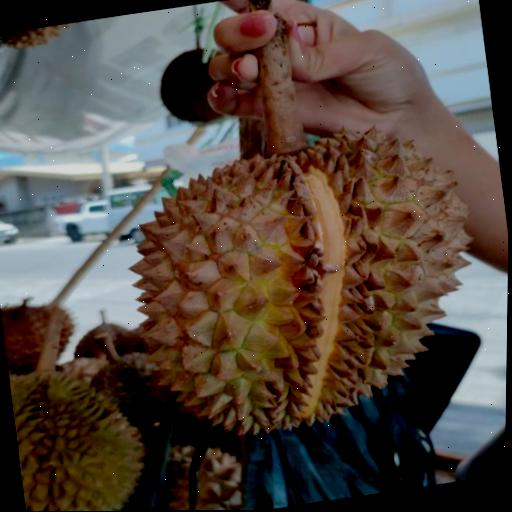rot: (19, 62, 511, 512)
